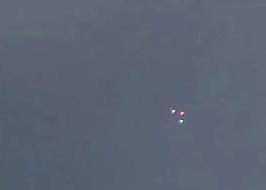Plane: (160, 100, 198, 128)
